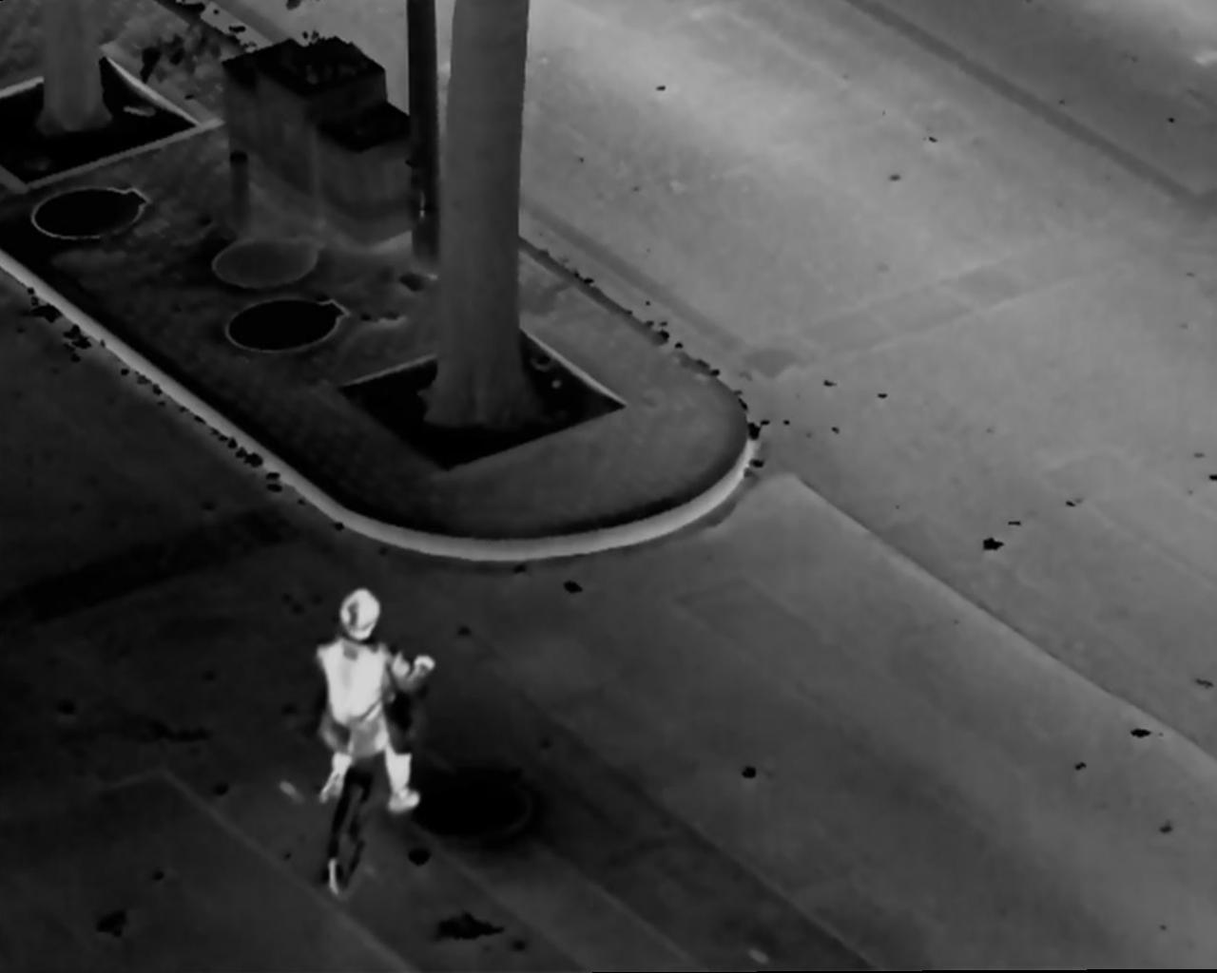person: (312, 583, 429, 816)
